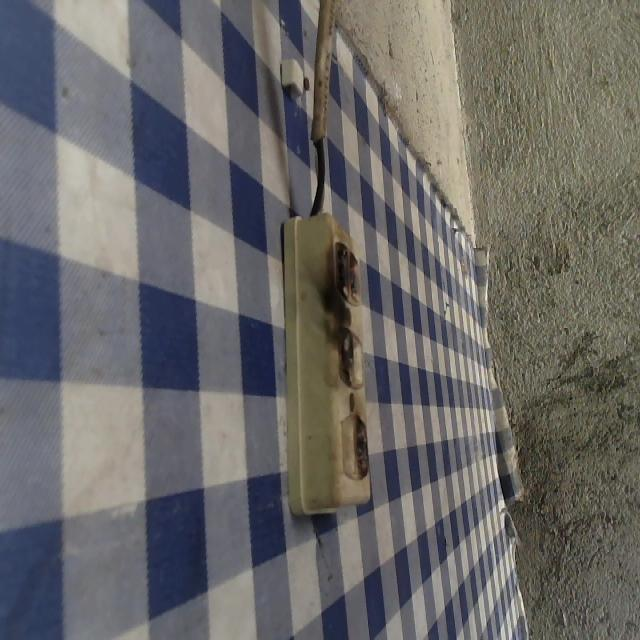-: (328, 232, 362, 309), (350, 409, 375, 482), (335, 325, 356, 391)
